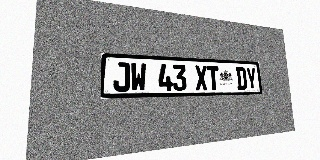3: (172, 64, 187, 91)
4: (158, 64, 173, 91)
D: (236, 67, 247, 90)
J: (113, 62, 130, 92)
T: (207, 66, 220, 90)
W: (131, 63, 146, 92)
X: (195, 65, 208, 91)
Y: (246, 67, 257, 90)
